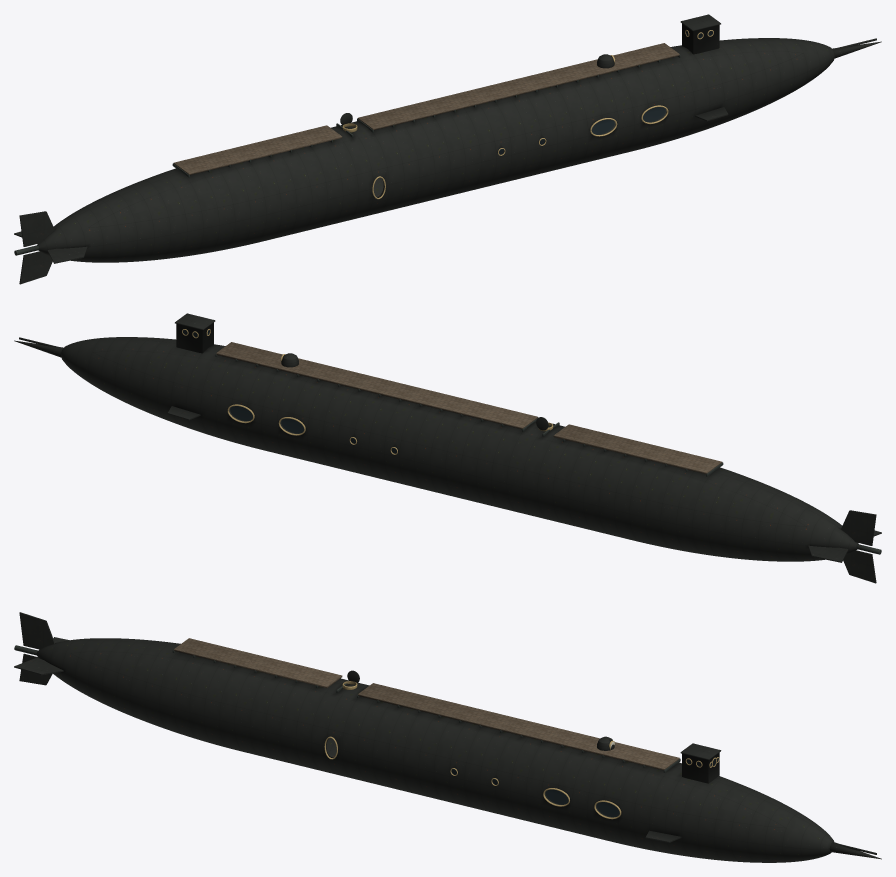
File: nautilus_hull.glb
3 views of the same model, one above another, from view 1: azimuth 30°, elevation 25°; view 2: azimuth 150°, elevation 25°; view 3: azimuth 330°, elevation 25° (orthographic).
Visible parts, largest first — view 1: boat_hull, boat_teak, boat_hull_clean, boat_brass, boat_glass; view 2: boat_hull, boat_teak, boat_hull_clean, boat_glass; view 3: boat_hull, boat_teak, boat_hull_clean, boat_brass, boat_glass.
Part boxes in pixels (x1=…): boat_hull: x1=37, y1=38, x2=834, y2=262; boat_teak: x1=173, y1=43, x2=679, y2=174; boat_hull_clean: x1=14, y1=14, x2=881, y2=284; boat_brass: x1=342, y1=30, x2=713, y2=199; boat_glass: x1=498, y1=31, x2=712, y2=154; boat_hull: x1=61, y1=337, x2=858, y2=561; boat_teak: x1=216, y1=342, x2=722, y2=473; boat_hull_clean: x1=14, y1=313, x2=881, y2=583; boat_glass: x1=183, y1=330, x2=397, y2=453; boat_hull: x1=36, y1=638, x2=834, y2=862; boat_teak: x1=173, y1=638, x2=679, y2=770; boat_hull_clean: x1=14, y1=612, x2=881, y2=859; boat_brass: x1=324, y1=681, x2=719, y2=819; boat_glass: x1=451, y1=758, x2=718, y2=816.
Size of the model in its own units: 84.7 by 9.96 by 10.4.
7 materials, 4 textured.
